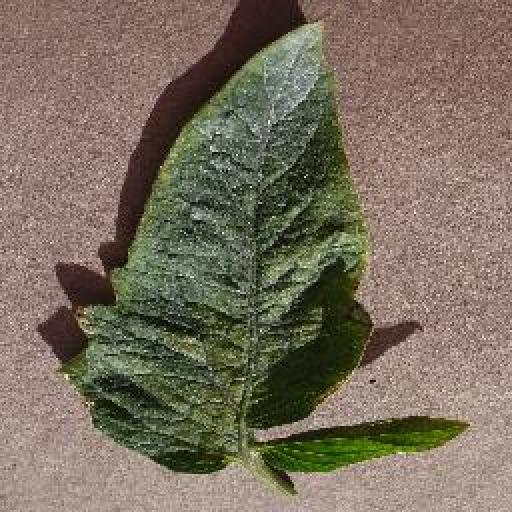disease_tomato: (51, 20, 369, 475)
